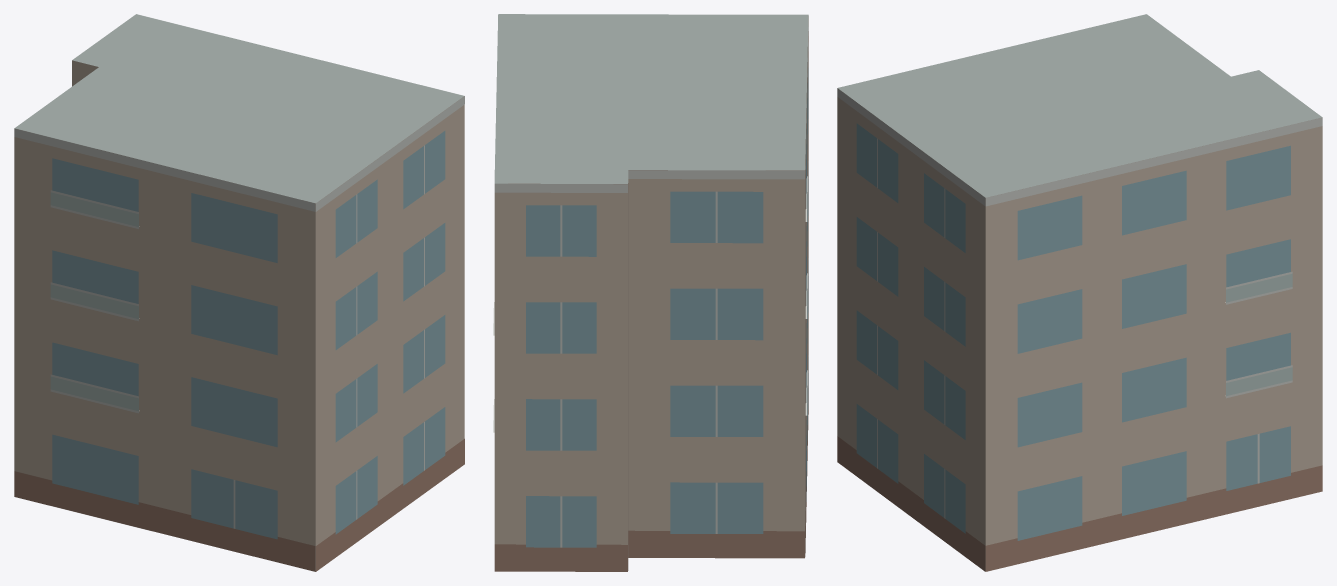
File: survey-upis-32716728.glb
3 renders of one model, left to right at view 1: azimuth 30°, elevation 25°; view 2: azimuth 150°, elevation 25°; view 3: azimuth 270°, elevation 25°, orthographic. The views are drawn at different scales.
Visible parts, largest first — view 1: survey-upis-32716728.tmp; view 2: survey-upis-32716728.tmp; view 3: survey-upis-32716728.tmp.
Boxes of the visible parts, bbox=[...] form: survey-upis-32716728.tmp: bbox=[14, 14, 464, 571]; survey-upis-32716728.tmp: bbox=[493, 14, 808, 571]; survey-upis-32716728.tmp: bbox=[837, 14, 1322, 571].
Bounding box in the file's own units: 11.07 × 10.5 × 12.35.
